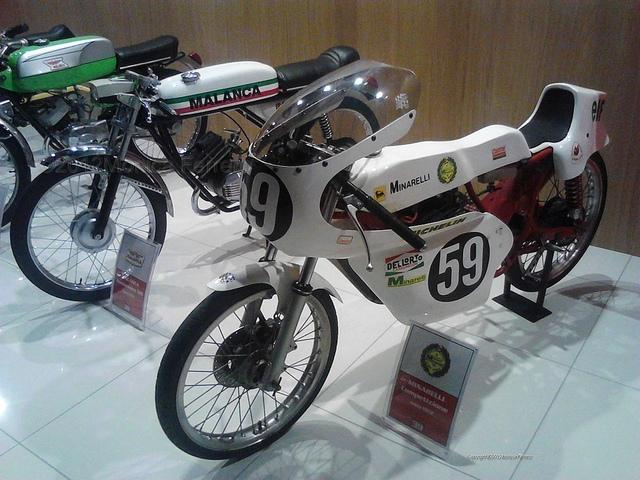motorcycle: (155, 60, 612, 458), (13, 47, 357, 299), (0, 23, 205, 226)
